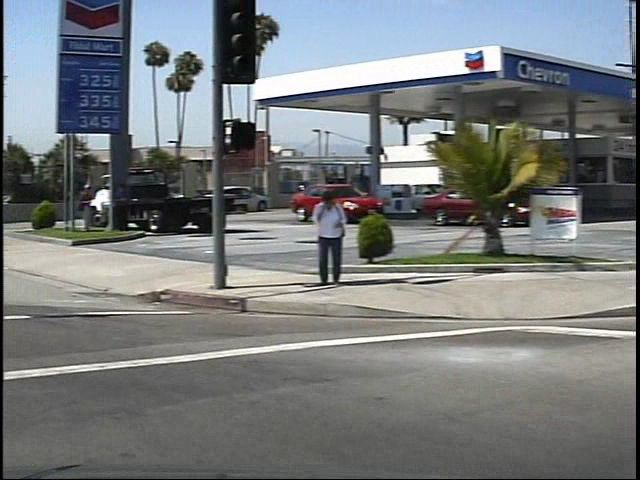person: (299, 186, 339, 288), (69, 180, 90, 235)
